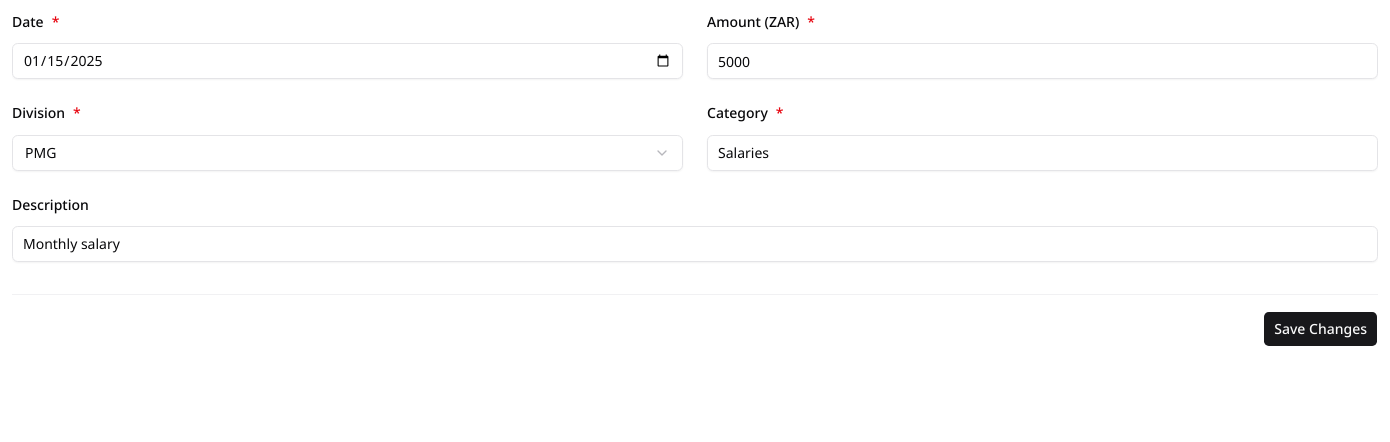
ExpenseEditForm - inline error display › does not navigate away on error - Validates: Requirements 1.4
Click the button "Save Changes": (1321, 329) [1263,311,1378,347]
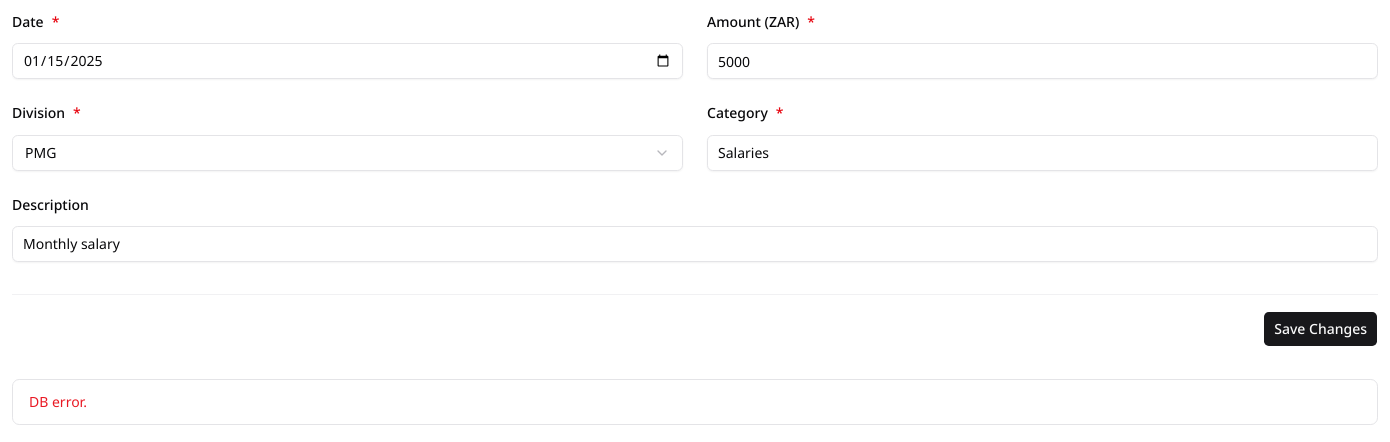
expect the text "DB error." is shown: met, box [29,392,87,411]
